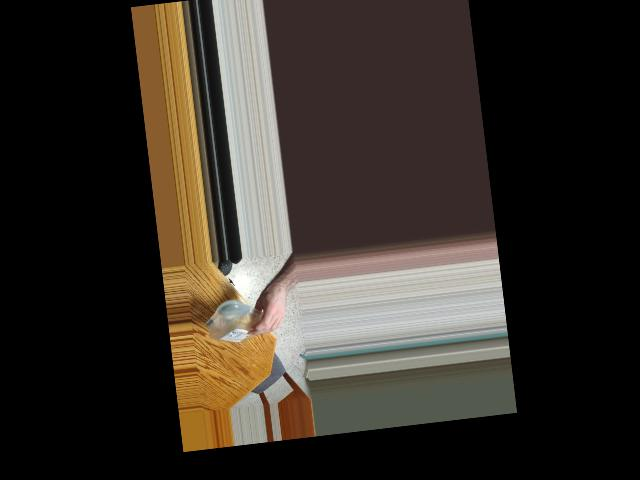cheese: (207, 301, 275, 344)
